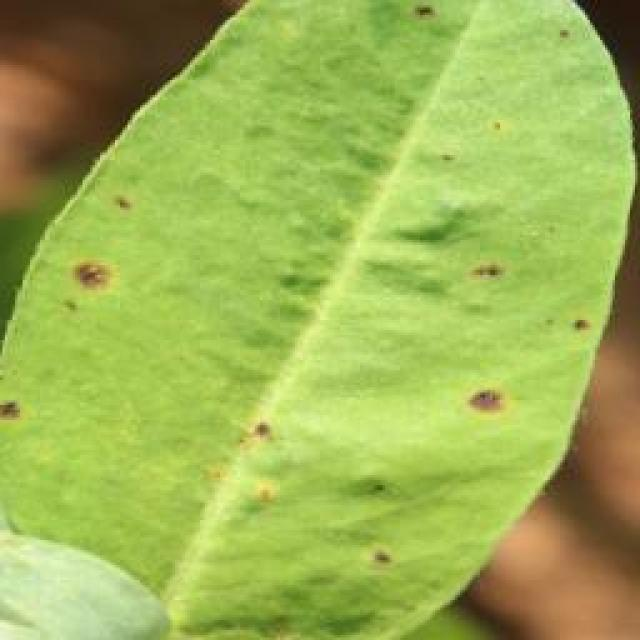Sigatoka: (452, 376, 553, 451), (334, 509, 410, 601), (223, 390, 284, 460), (204, 447, 284, 498), (73, 228, 127, 303), (102, 156, 160, 224), (536, 10, 584, 80), (0, 385, 36, 440), (482, 118, 520, 160), (568, 318, 611, 353), (390, 0, 440, 30), (476, 261, 513, 289)
